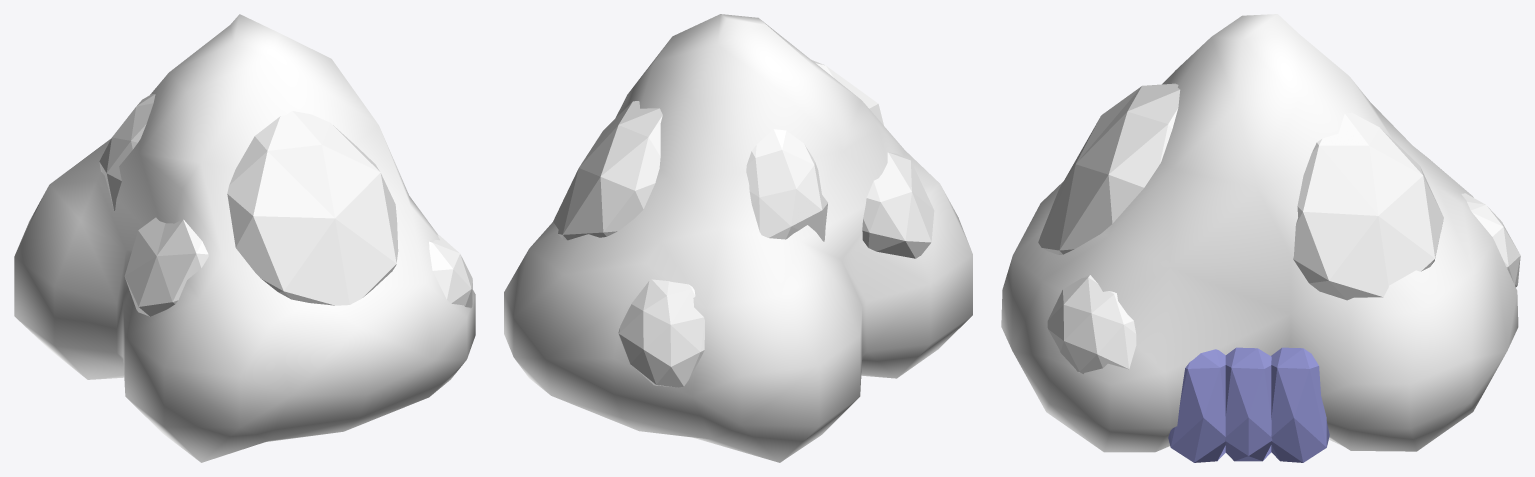
File: fleshmound.glb
3 renders of one model, left to right at view 1: azimuth 30°, elevation 25°; view 2: azimuth 150°, elevation 25°; view 3: azimuth 270°, elevation 25°, orthographic. The views are drawn at different scales.
Visible parts, largest first — view 1: fleshmound; view 2: fleshmound; view 3: fleshmound.
Boxes of the visible parts, x1,y1,x2,y2 form: fleshmound: [14, 14, 475, 462]; fleshmound: [504, 14, 972, 462]; fleshmound: [1001, 14, 1520, 462].
Bounding box in the file's own units: 4.39 × 4.65 × 5.59.
